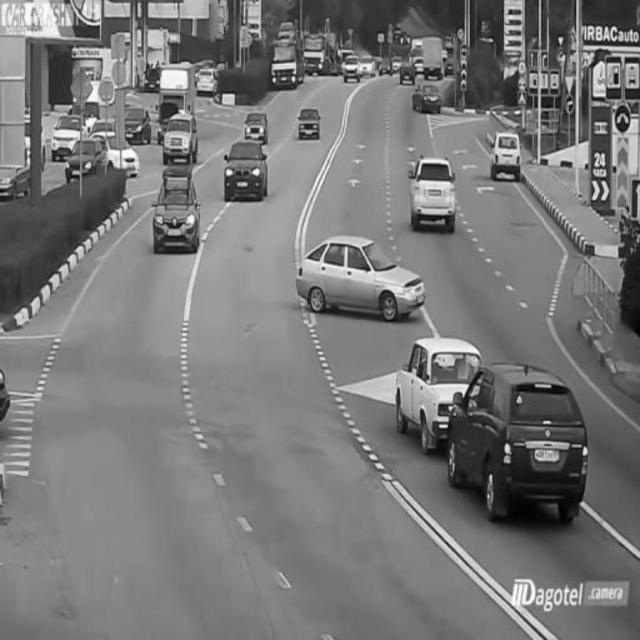vehicle: (449, 364, 589, 518), (286, 235, 432, 321), (391, 333, 471, 441), (154, 169, 201, 257), (405, 157, 459, 227), (99, 124, 145, 185), (223, 140, 268, 197), (266, 26, 302, 90), (161, 108, 199, 164), (485, 130, 523, 186), (51, 105, 81, 162), (63, 138, 100, 183), (301, 23, 329, 78), (409, 78, 444, 118), (238, 105, 273, 140), (123, 97, 151, 139), (420, 34, 444, 81), (394, 44, 418, 90), (296, 104, 320, 141), (193, 61, 219, 95), (343, 50, 365, 85)
